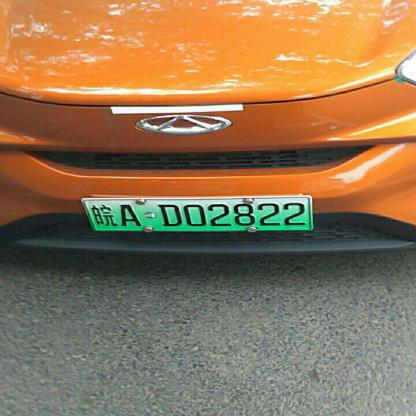lp: (85, 197, 310, 230)
